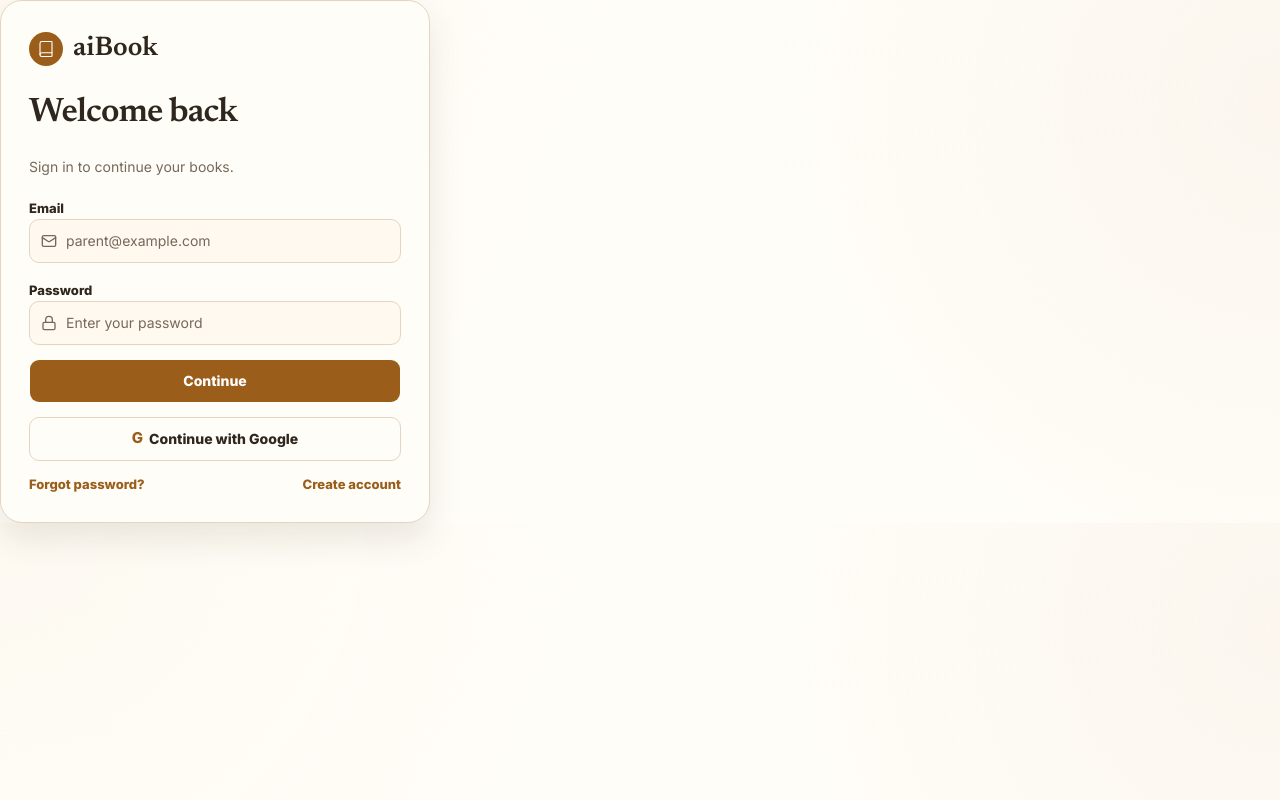
Test: auth pages › shows loading state and completes demo login
The width and height of the screenshot is (1280, 800).
Type "demo.parent@example.com" into the field labelled "Email" at (215, 240), box [29,218,401,262]
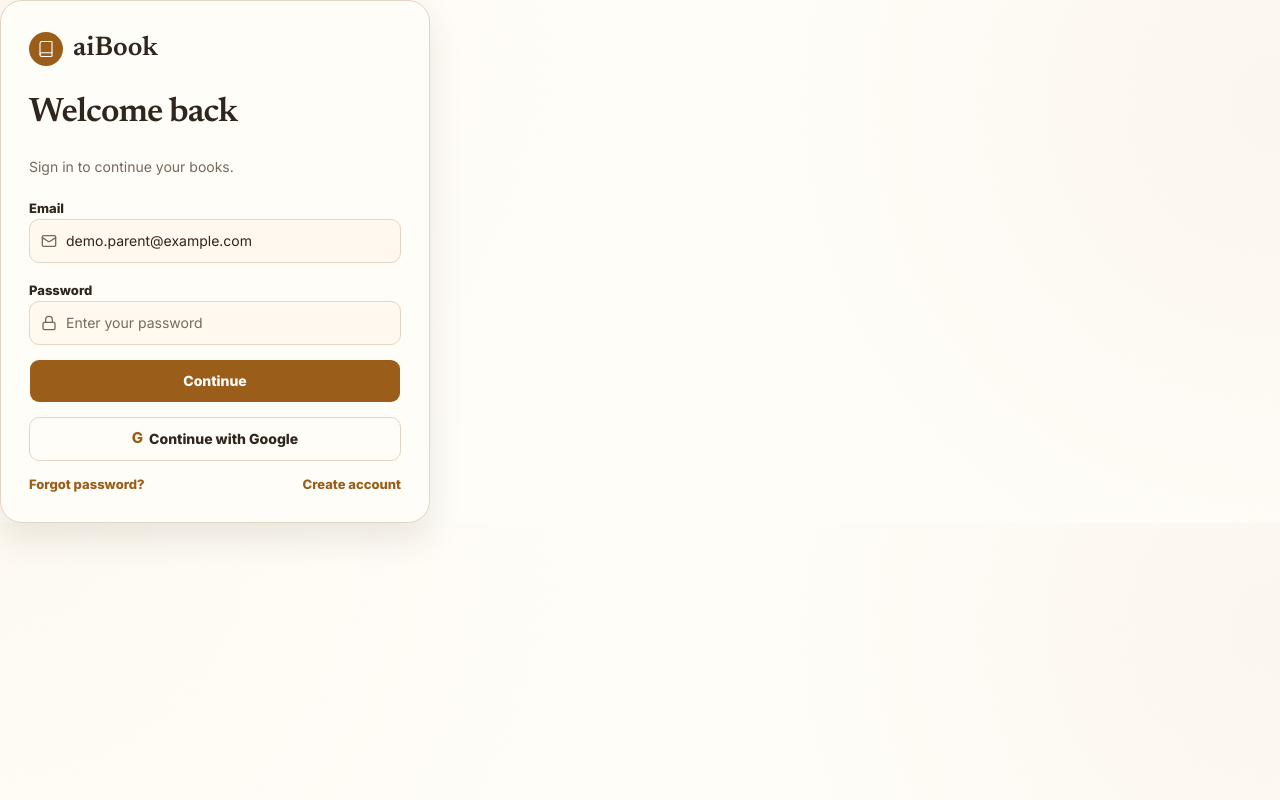
Type "secret-passphrase" into the password field labelled "Password" at (215, 322), box [29,300,401,344]
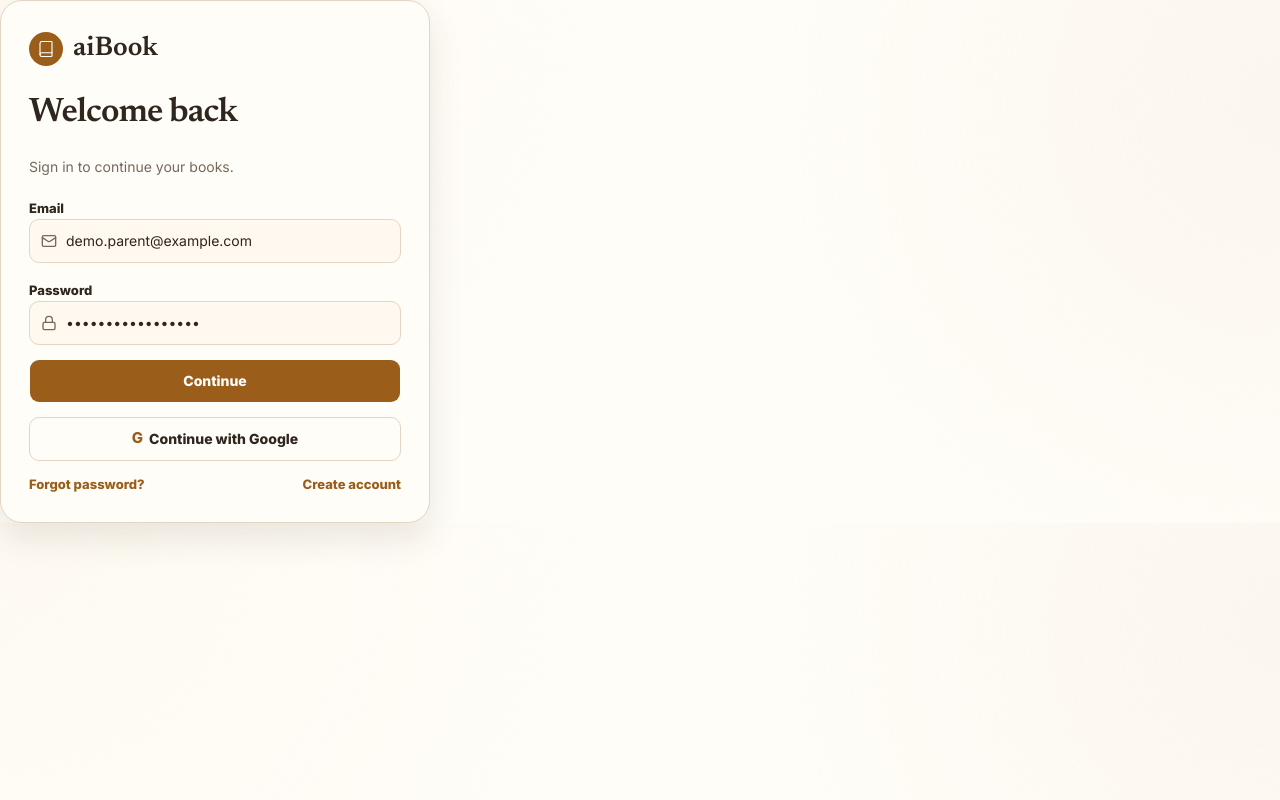
Click the button "Continue" at (215, 380), box [29,358,401,402]
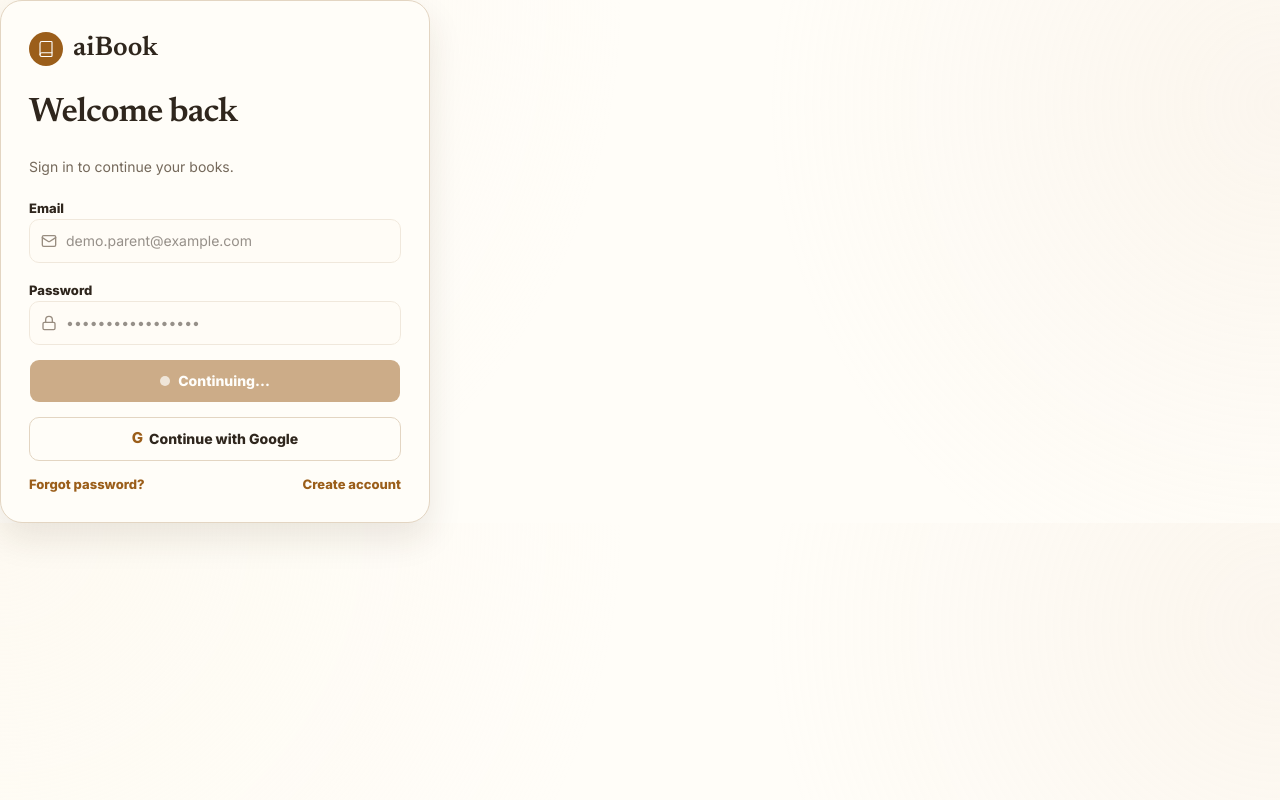
Check: the button "Continuing..." is disabled, box [29,358,401,402]
